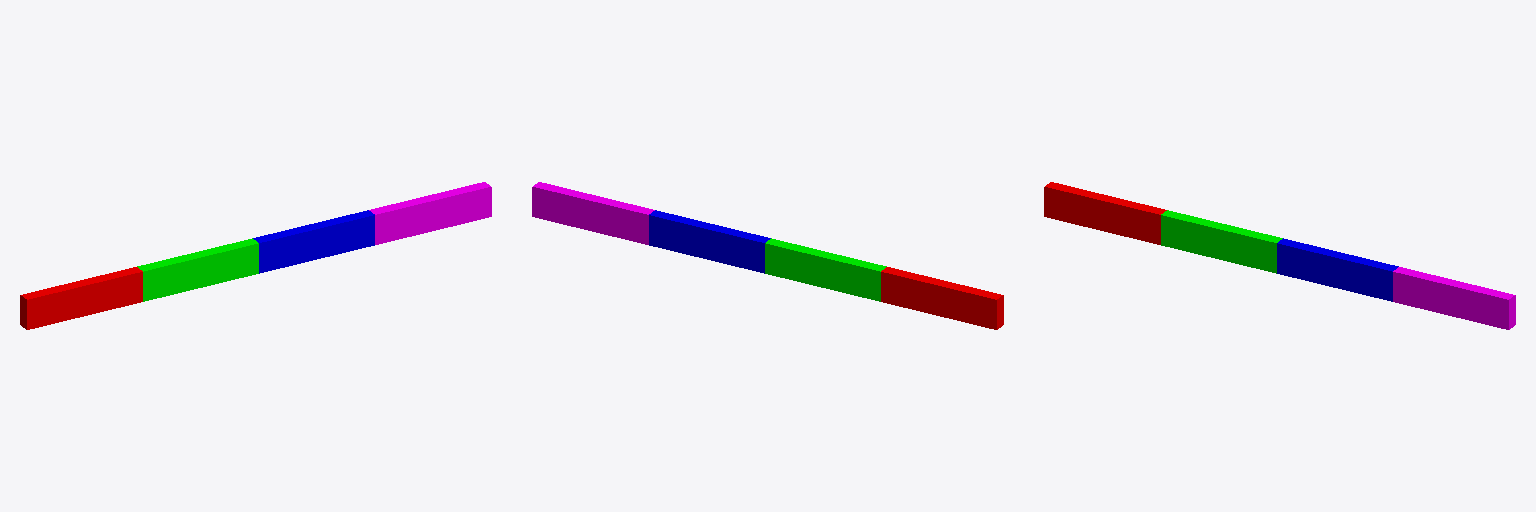
The robot description file, URDF, robot "flexible_arm":
<?xml version="1.0"?>
<robot name="flexible_arm">
  <!-- world -->
  <link name="world"/>

  <!-- flexible arm modeled using virtual link method -->
  <link name="link1">
    <visual>
      <origin rpy="0 0 0" xyz ="0.05 0 0"/>
      <geometry>
        <box size="0.1 0.025 0.01"/>
      </geometry>
      <material name="">
        <color rgba="1.0 0.0 0.0 1.0"/>
      </material>
    </visual>
    <inertial>
      <origin xyz="0.05 0 0" rpy="0 0 0"/>
      <mass value="0.8" />
      <inertia ixx="0" ixy="0" ixz="0" iyy="0" iyz="0" izz="0.002" />
    </inertial>
  </link>

  <joint name="base_to_link1" type="revolute">
    <parent link="world"/>
    <child link="link1"/>
    <axis xyz="0 0 1"/>
    <origin xyz="0 0 0" rpy="1.57079632679489661923 0 0"/>
    <limit effort="100.0" lower="-3.14159" upper="3.14159" velocity="3.14"/>
  </joint>

  <link name="link2">
    <visual>
      <origin xyz ="0.05 0 0" rpy="0 0 0"/>
      <geometry>
        <box size="0.1 0.025 0.01"/>
      </geometry>
      <material name="">
        <color rgba="0.0 1.0 0.0 1.0"/>
      </material>
    </visual>
    <inertial>
      <origin xyz="0.05 0 0" rpy="0 0 0"/>
      <mass value="0.8" />
      <inertia ixx="0" ixy="0" ixz="0" iyy="0.0" iyz="0" izz="0.002" />
    </inertial>
  </link>

  <joint name="link1_to_link2" type="fixed">
    <parent link="link1"/>
    <child link="link2"/>
    <origin xyz="0.1 0 0" rpy="0 0 0"/>
  </joint>

  <link name="link3">
    <visual>
      <origin xyz ="0.05 0 0" rpy="0 0 0"/>
      <geometry>
        <box size="0.1 0.025 0.01"/>
      </geometry>
      <material name="">
        <color rgba="0.0 0.0 1.0 1.0"/>
      </material>
    </visual>
    <inertial>
      <origin xyz="0.05 0 0" rpy="0 0 0"/>
      <mass value="0.8" />
      <inertia ixx="0" ixy="0" ixz="0" iyy="0" iyz="0" izz="0.002" />
    </inertial>
  </link>

  <joint name="link2_to_link3" type="fixed">
    <parent link="link2"/>
    <child link="link3"/>
    <origin xyz="0.1 0 0" rpy="0 0 0"/>
  </joint>

  <link name="link4">
    <visual>
      <origin xyz ="0.05 0 0" rpy="0 0 0"/>
      <geometry>
        <box size="0.1 0.025 0.01"/>
      </geometry>
      <material name="">
        <color rgba="1.0 0.0 1.0 1.0"/>
      </material>
    </visual>
    <inertial>
      <origin xyz="0.05 0 0" rpy="0 0 0"/>
      <mass value="0.8" />
      <inertia ixx="0" ixy="0" ixz="0" iyy="0" iyz="0" izz="0.002" />
    </inertial>
  </link>

  <joint name="link3_to_link4" type="fixed">
    <parent link="link3"/>
    <child link="link4"/>
    <origin xyz="0.1 0 0" rpy="0 0 0"/>
  </joint>
</robot>

--- What the picture shows (computed from the rendered views, not written in the file) ---
3 views of the same robot in one strip: view 1: azimuth 30°, elevation 25°; view 2: azimuth 150°, elevation 25°; view 3: azimuth 330°, elevation 25° (orthographic).
Robot: flexible_arm — 5 links, 4 joints (1 revolute, 3 fixed); root link world; default pose: every joint at zero.
Links seen in each view (by area): view 1: link1, link4, link2, link3; view 2: link1, link4, link2, link3; view 3: link4, link1, link2, link3.
Boxes of the visible links, x1,y1,x2,y2 form: link1: (20, 267, 142, 329); link4: (369, 182, 491, 244); link2: (137, 238, 258, 301); link3: (253, 210, 374, 273); link1: (881, 267, 1003, 329); link4: (532, 182, 654, 244); link2: (765, 238, 886, 301); link3: (649, 210, 770, 273); link4: (1393, 267, 1515, 329); link1: (1044, 182, 1166, 244); link2: (1161, 210, 1282, 273); link3: (1277, 238, 1398, 301).
Size in the robot's own frame: 0.4 by 0.01 by 0.025 metres.
Geometry: primitives only (box / cylinder / sphere), no mesh files.